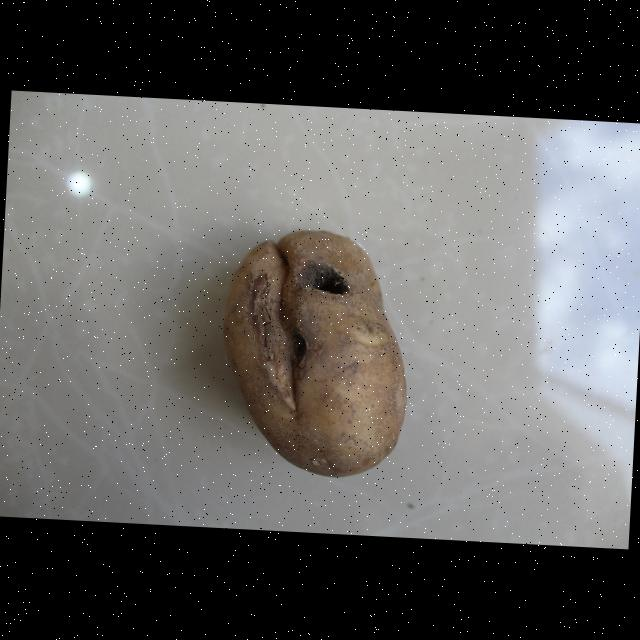Damaged potato: (211, 217, 418, 483)
